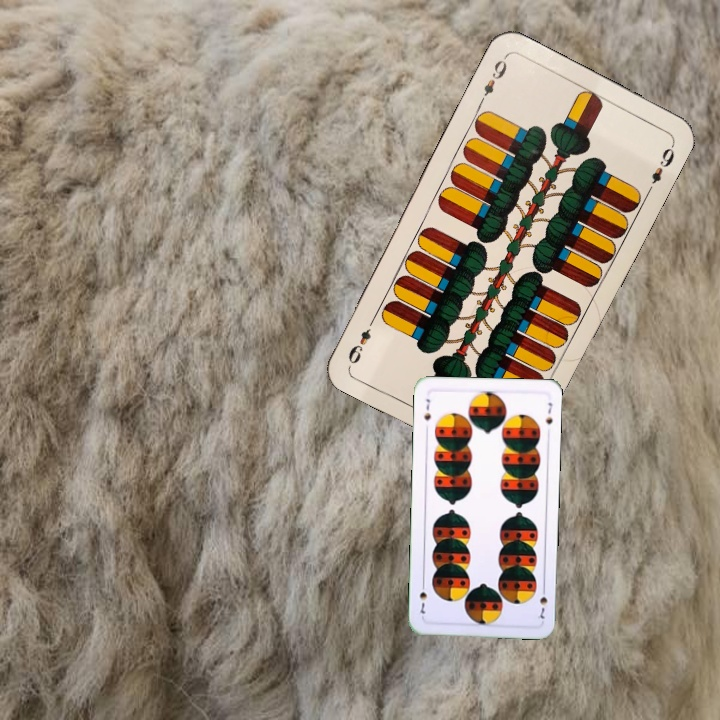E9: (475, 53, 510, 107)
S7: (533, 583, 550, 621), (420, 395, 433, 423)
